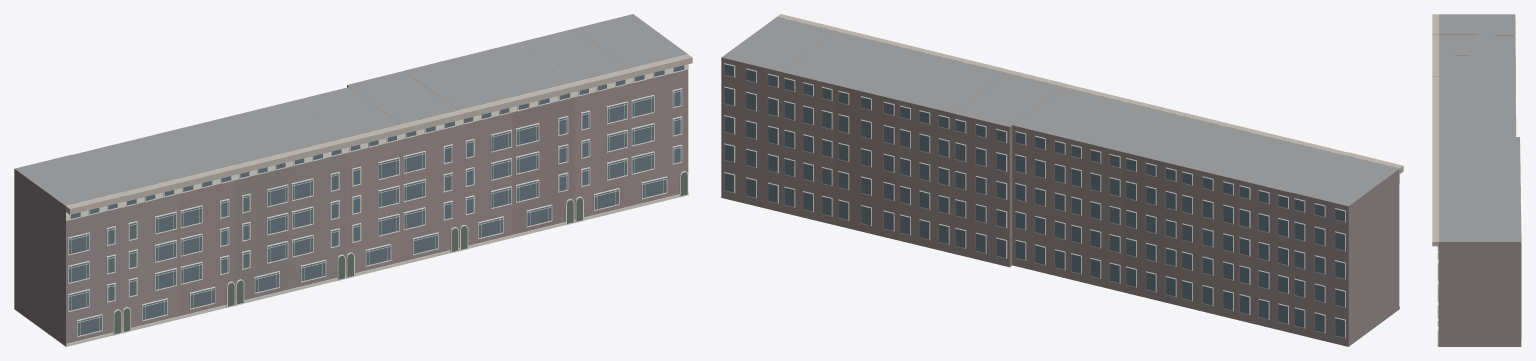
The model's file is chunk-face-polanen-181-331-r1.glb.
The picture shows the model from 3 angles, left to right: view 1: azimuth 30°, elevation 25°; view 2: azimuth 150°, elevation 25°; view 3: azimuth 270°, elevation 25°; orthographic projection. The views are drawn at different scales.
Visible parts, largest first — view 1: face-polanen-181-331-r1; view 2: face-polanen-181-331-r1; view 3: face-polanen-181-331-r1.
Part boxes in pixels (<box>): face-polanen-181-331-r1: <box>14,14,692,346</box>; face-polanen-181-331-r1: <box>721,14,1403,346</box>; face-polanen-181-331-r1: <box>1432,14,1521,346</box>.
Size of the model in its own units: 68.36 by 14.78 by 11.33.
